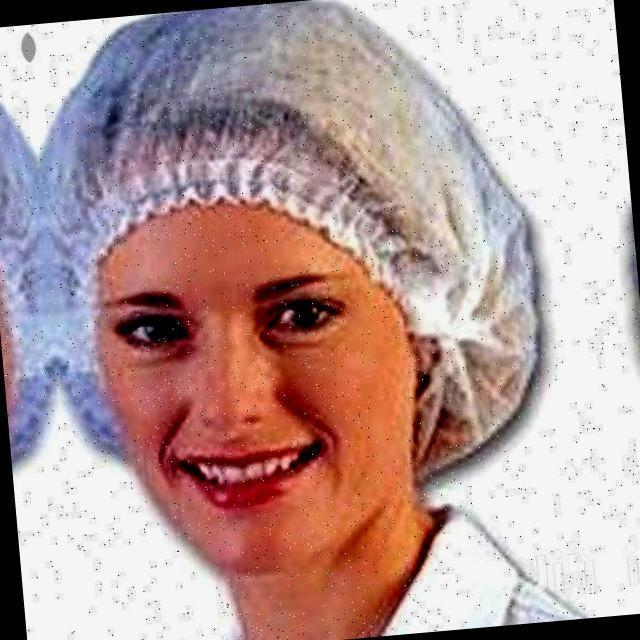gloves: (89, 0, 474, 290)
no_hairnet: (168, 404, 382, 558)
